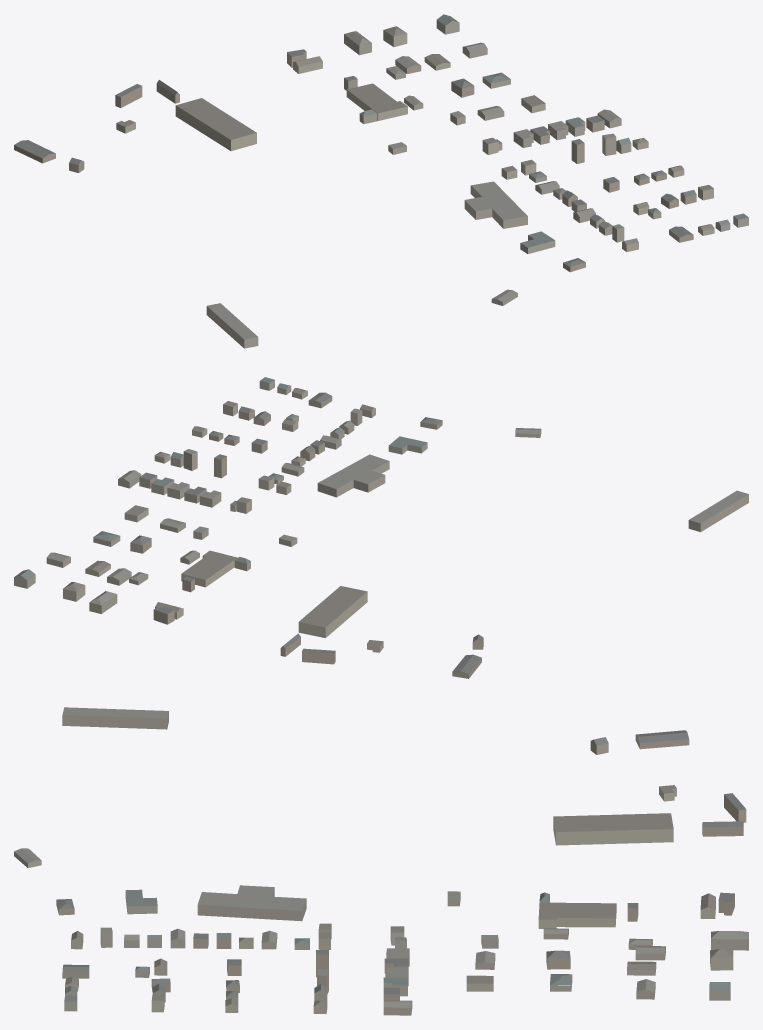
The model's file is 2d773741895b-chunk-1196_11842.glb.
3 views of the same model, one above another, from view 1: azimuth 30°, elevation 25°; view 2: azimuth 150°, elevation 25°; view 3: azimuth 270°, elevation 25° (orthographic). The views are drawn at different scales.
Parts seen in each view (by area): view 1: building_155648, building_54882, building_22191, building_8747, building_168357; view 2: building_155648, building_54882, building_22191, building_8747, building_133434; view 3: building_155648, building_54882, building_8747, building_22191, building_168357, building_26944, building_133434, building_166628, building_27486.
Boxes of the visible parts, <box> form: building_155648: <box>175,98,256,151</box>; building_54882: <box>464,181,527,228</box>; building_22191: <box>346,83,407,120</box>; building_8747: <box>206,303,258,348</box>; building_168357: <box>14,140,55,163</box>; building_155648: <box>298,586,367,637</box>; building_54882: <box>317,454,389,497</box>; building_22191: <box>181,550,237,587</box>; building_8747: <box>688,490,748,532</box>; building_133434: <box>388,436,427,454</box>; building_155648: <box>553,813,673,845</box>; building_54882: <box>197,885,306,921</box>; building_8747: <box>62,707,168,729</box>; building_22191: <box>538,902,616,928</box>; building_168357: <box>635,730,689,749</box>; building_26944: <box>711,931,748,950</box>; building_133434: <box>125,889,157,914</box>; building_166628: <box>702,821,743,836</box>; building_27486: <box>710,949,733,970</box>.
Size of the model in its own units: 366 by 13.19 by 382.
